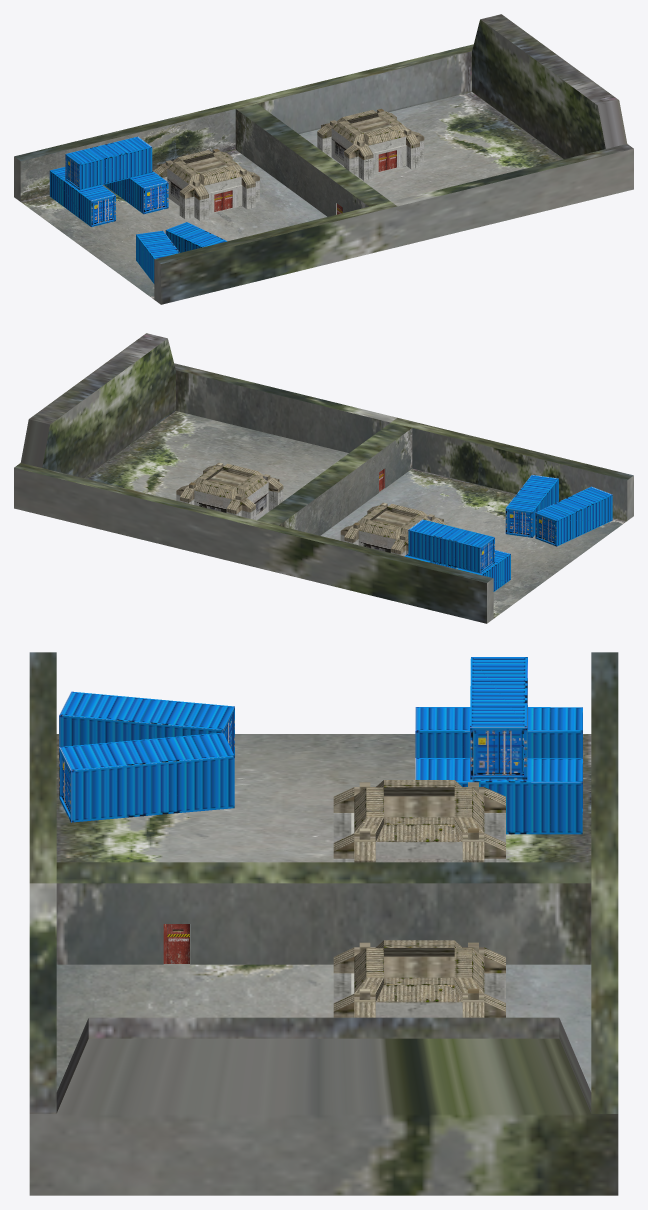
3 views of the same model, one above another, from view 1: azimuth 30°, elevation 25°; view 2: azimuth 150°, elevation 25°; view 3: azimuth 270°, elevation 25° (orthographic). The views are drawn at different scales.
Parts seen in each view (by area): view 1: Plane, Cube.001, Cube, Container.004, Container.003, Container.002, Container, Container.001; view 2: Plane, Cube.001, Container.004, Container, Cube, Container.001, Container.003; view 3: Plane, Cube, Container.001, Cube.001, Container, Container.002, Container.004, Container.003, Door.005.
Boxes of the visible parts, left/top/right/bottom form: Plane: left=14, top=14, right=633, bottom=304; Cube.001: left=317, top=108, right=424, bottom=180; Cube: left=153, top=149, right=259, bottom=220; Container.004: left=65, top=136, right=152, bottom=190; Container.003: left=49, top=167, right=115, bottom=226; Container.002: left=104, top=171, right=168, bottom=214; Container: left=136, top=230, right=179, bottom=283; Container.001: left=165, top=222, right=227, bottom=252; Plane: left=14, top=333, right=633, bottom=623; Cube.001: left=176, top=462, right=283, bottom=519; Container.004: left=408, top=519, right=494, bottom=573; Container: left=535, top=486, right=612, bottom=546; Cube: left=340, top=502, right=447, bottom=556; Container.001: left=505, top=475, right=558, bottom=537; Container.003: left=457, top=550, right=510, bottom=591; Plane: left=29, top=652, right=618, bottom=1195; Cube: left=333, top=780, right=505, bottom=862; Container.001: left=59, top=732, right=234, bottom=822; Cube.001: left=333, top=940, right=505, bottom=1017; Container: left=59, top=691, right=234, bottom=766; Container.002: left=415, top=758, right=582, bottom=834; Container.004: left=470, top=657, right=527, bottom=779; Container.003: left=415, top=707, right=582, bottom=758; Door.005: left=167, top=924, right=189, bottom=963.
Bounding box in the file's own units: 12881 × 2051 × 6941.
